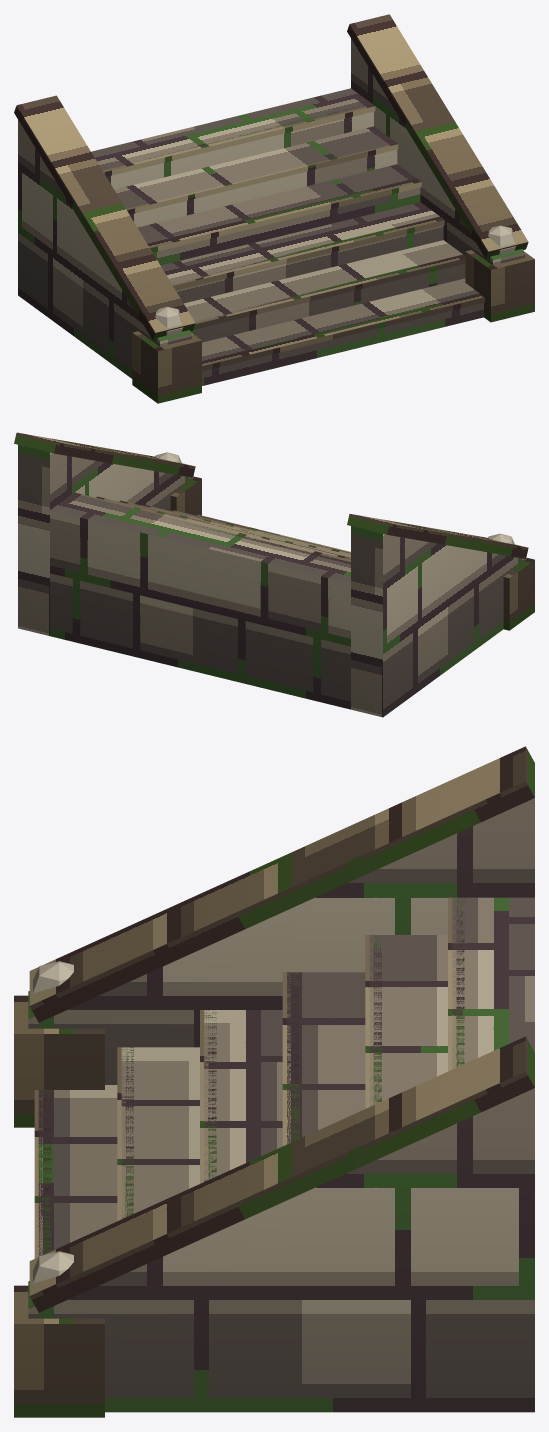
The model's file is scene_stair_gallery.glb.
The picture shows the model from 3 angles, top to bottom: view 1: azimuth 30°, elevation 25°; view 2: azimuth 150°, elevation 25°; view 3: azimuth 270°, elevation 25°; orthographic projection. The views are drawn at different scales.
Visible parts, largest first — view 1: scene_stair_gallery; view 2: scene_stair_gallery; view 3: scene_stair_gallery.
Boxes of the visible parts, <box> form: scene_stair_gallery: <box>14,14,534,403</box>; scene_stair_gallery: <box>14,432,534,717</box>; scene_stair_gallery: <box>14,746,534,1417</box>.
Size of the model in its own units: 3.76 by 1.84 by 2.52.
2 materials, 1 textured.
